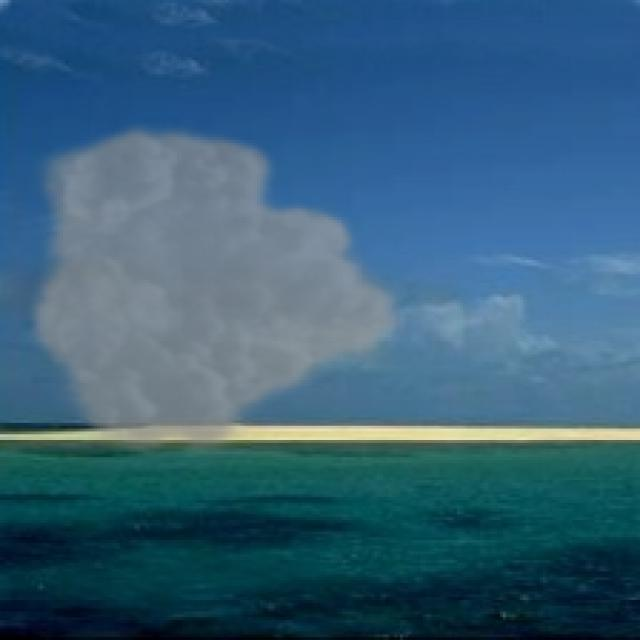smoke: (26, 120, 411, 463)
